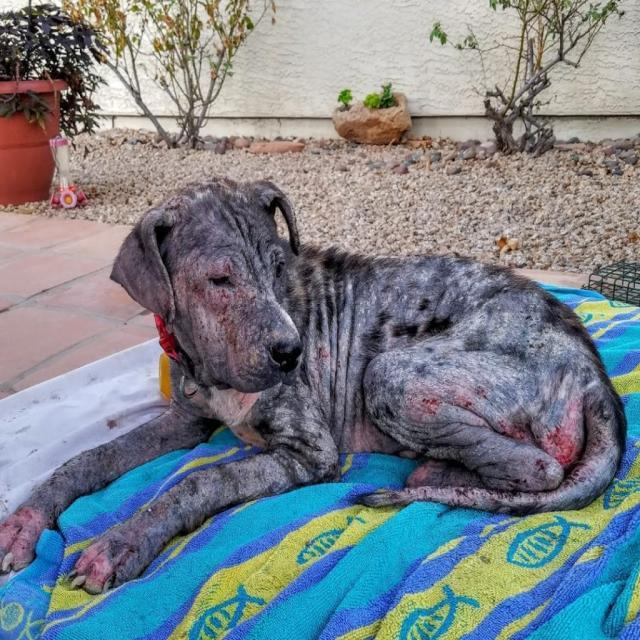mange: (0, 188, 586, 592)
